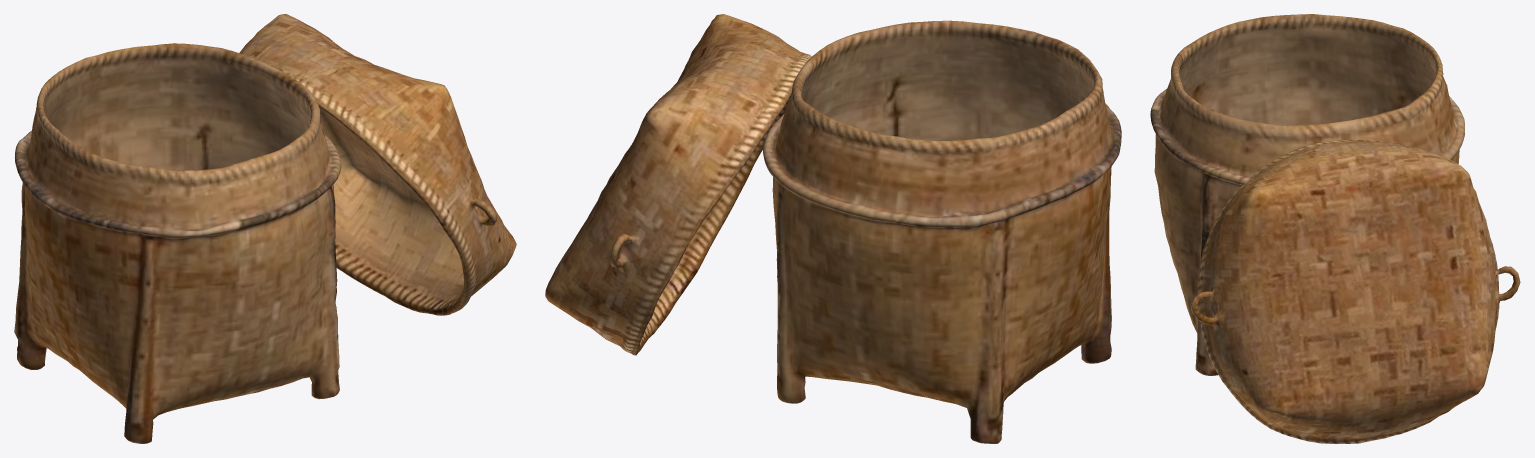
Rendered from wicker_basket_02.glb.
3 renders of one model, left to right at view 1: azimuth 30°, elevation 25°; view 2: azimuth 150°, elevation 25°; view 3: azimuth 270°, elevation 25°, orthographic. The views are drawn at different scales.
Visible parts, largest first — view 1: wicker_basket_02_base, wicker_basket_02_lid; view 2: wicker_basket_02_base, wicker_basket_02_lid; view 3: wicker_basket_02_lid, wicker_basket_02_base.
Boxes of the visible parts, <box> form: wicker_basket_02_base: <box>14,43,341,443</box>; wicker_basket_02_lid: <box>239,14,516,315</box>; wicker_basket_02_base: <box>763,20,1121,443</box>; wicker_basket_02_lid: <box>545,14,811,355</box>; wicker_basket_02_lid: <box>1190,140,1520,443</box>; wicker_basket_02_base: <box>1150,14,1464,375</box>.
Bounding box in the file's own units: 0.3469 × 0.2005 × 0.2544.
1 material, 1 textured.
